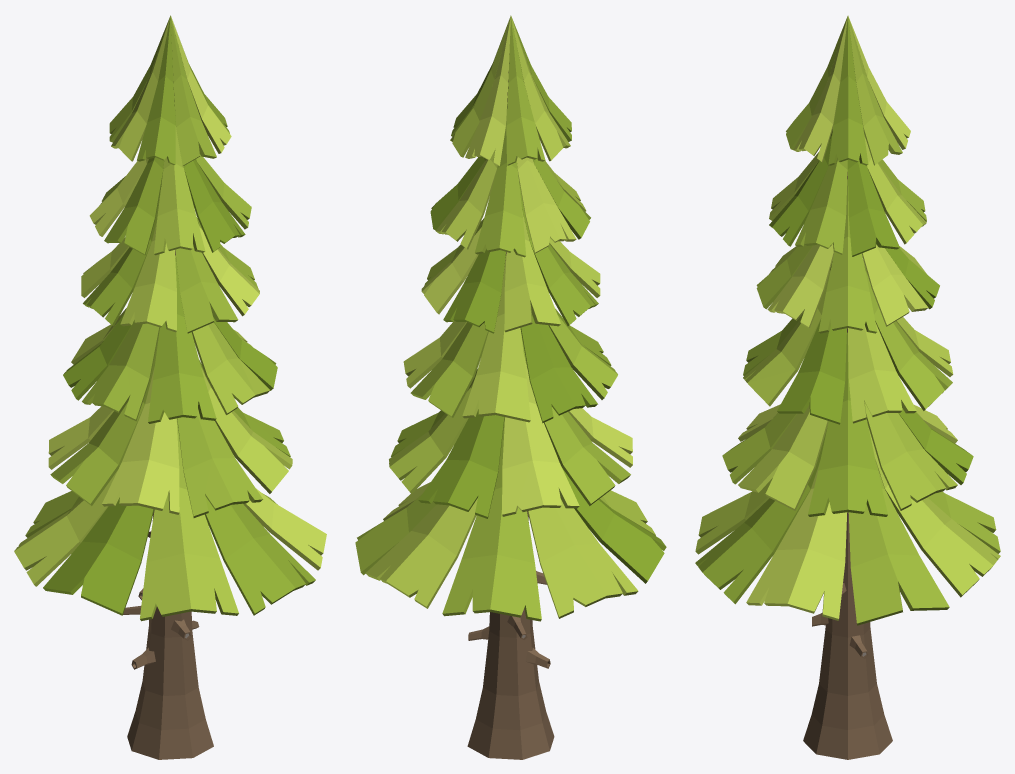
Rendered from NHP_Tree_LP_A1_8m_01.fbx.
3 views of the same model, side by side, from view 1: azimuth 30°, elevation 25°; view 2: azimuth 150°, elevation 25°; view 3: azimuth 270°, elevation 25° (orthographic).
Parts seen in each view (by area): view 1: NHP_Tree_LP_A1_8m_01_LOD0; view 2: NHP_Tree_LP_A1_8m_01_LOD0; view 3: NHP_Tree_LP_A1_8m_01_LOD0.
Part boxes in pixels (x1,y1,x2,y2): NHP_Tree_LP_A1_8m_01_LOD0: (14, 15, 326, 759); NHP_Tree_LP_A1_8m_01_LOD0: (355, 15, 666, 759); NHP_Tree_LP_A1_8m_01_LOD0: (695, 15, 1000, 759).
Size of what is drawn, in the model's own units: 3.17 by 8.31 by 3.17.
